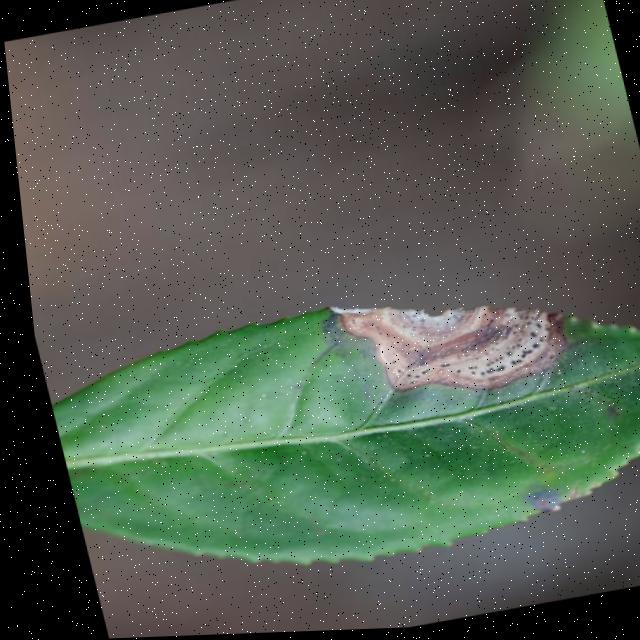Tea cloud leaf blight: (332, 276, 577, 420)
